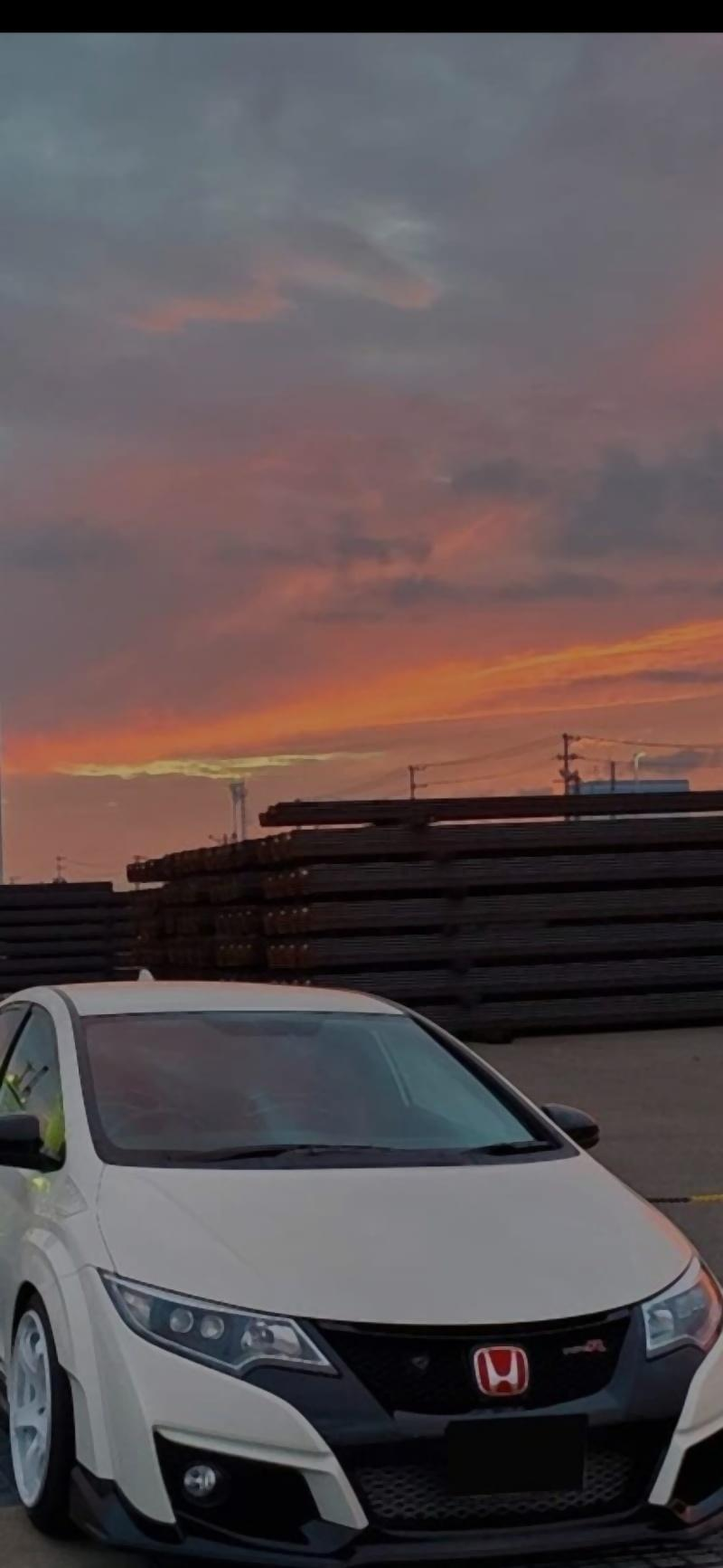Car hood: (48, 1140, 697, 1331)
Fender - -F-R-: (0, 1135, 135, 1474)
Front bumper: (66, 1303, 723, 1562)
Headlight - -L-: (631, 1249, 723, 1375)
Headlight - -R-: (93, 1262, 341, 1389)
Side mirror - -L-: (531, 1102, 602, 1162)
Side mirror - -R-: (0, 1111, 70, 1186)
